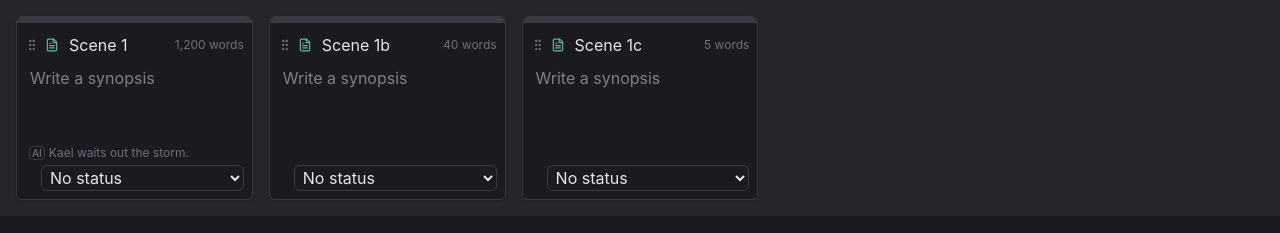
Test case: CorkBoard › shows the AI summary greyed while the synopsis is empty, and never copies it
Check: the element with test id "card-ai-summary" reads "AIKael waits out the storm.", box [29,145,189,160]
Type "Mine" into the text box labelled "synopsis" below "1,200 words" at (134, 102), box [25,63,244,141]
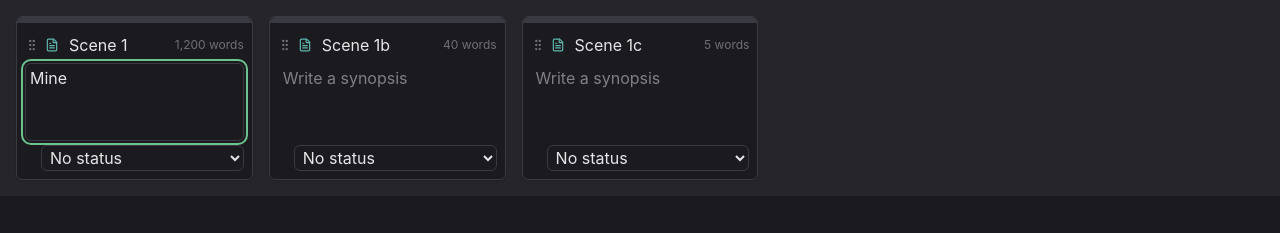
Check: the element with test id "card-ai-summary" is gone
